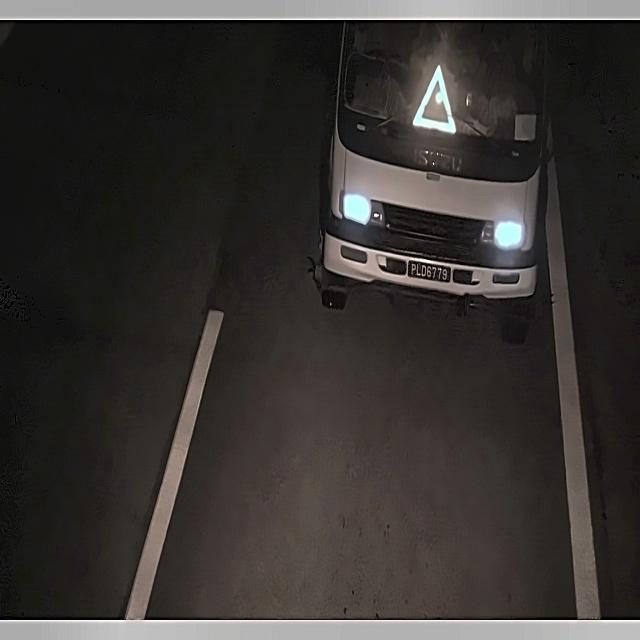car: (404, 254, 454, 290)
